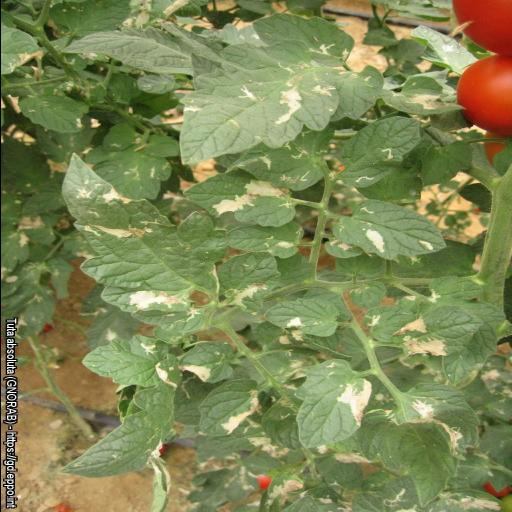Leaf Miner: (176, 10, 384, 168), (58, 153, 228, 333), (392, 382, 484, 509), (286, 354, 370, 452), (182, 171, 302, 229), (334, 202, 448, 260), (391, 304, 485, 358), (188, 376, 262, 440), (257, 297, 341, 337)
